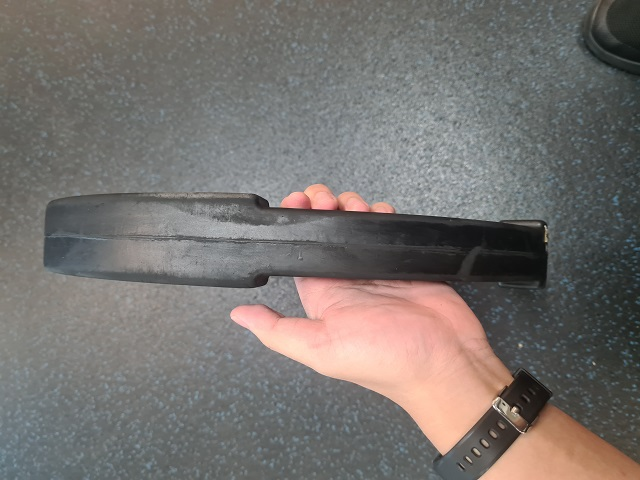weights: (42, 189, 551, 290)
